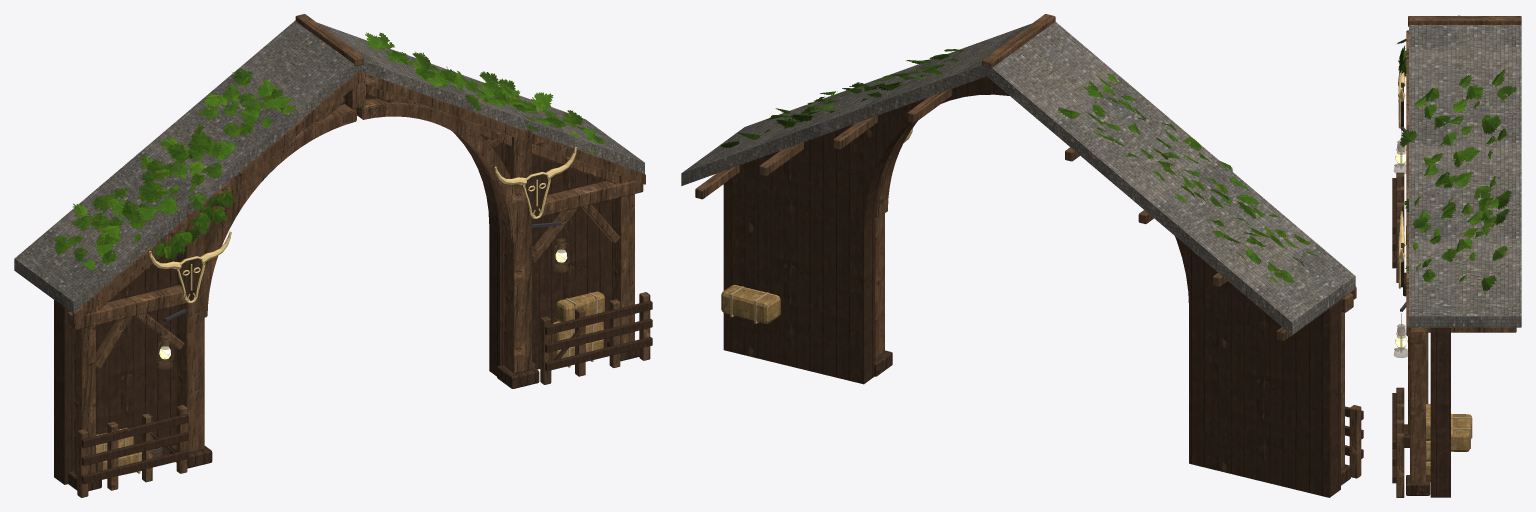
File: fachada_10.glb
The picture shows the model from 3 angles, left to right: view 1: azimuth 30°, elevation 25°; view 2: azimuth 150°, elevation 25°; view 3: azimuth 270°, elevation 25°; orthographic projection. The views are drawn at different scales.
Parts seen in each view (by area): view 1: F10; view 2: F10; view 3: F10.
Part boxes in pixels (x1=…): F10: x1=14, y1=14, x2=652, y2=497; F10: x1=681, y1=14, x2=1363, y2=497; F10: x1=1392, y1=15, x2=1521, y2=497.
Bounding box in the file's own units: 12.4 × 7.61 × 2.56.
Materials: 12 (8 with a texture image).
